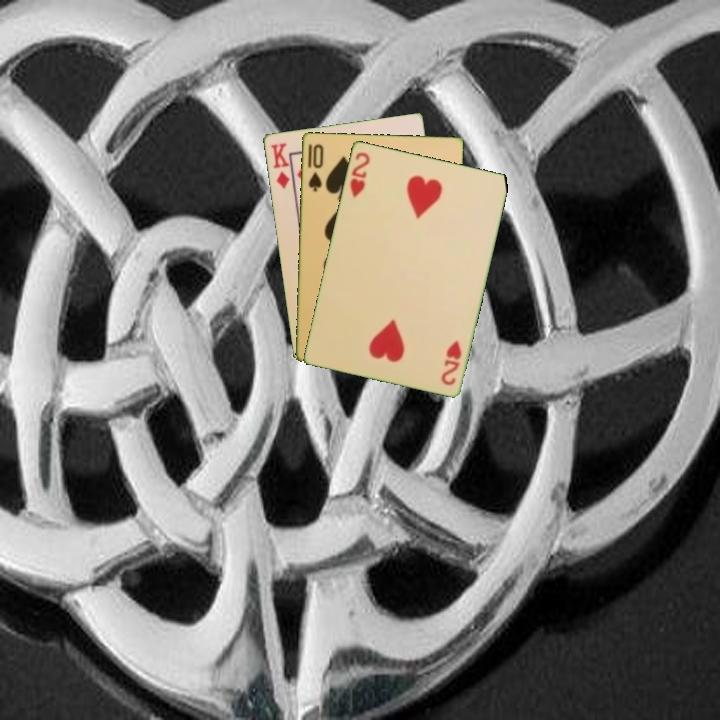10s: (304, 141, 326, 194)
2h: (437, 337, 464, 388), (346, 148, 372, 200)
Kd: (267, 139, 292, 191)
